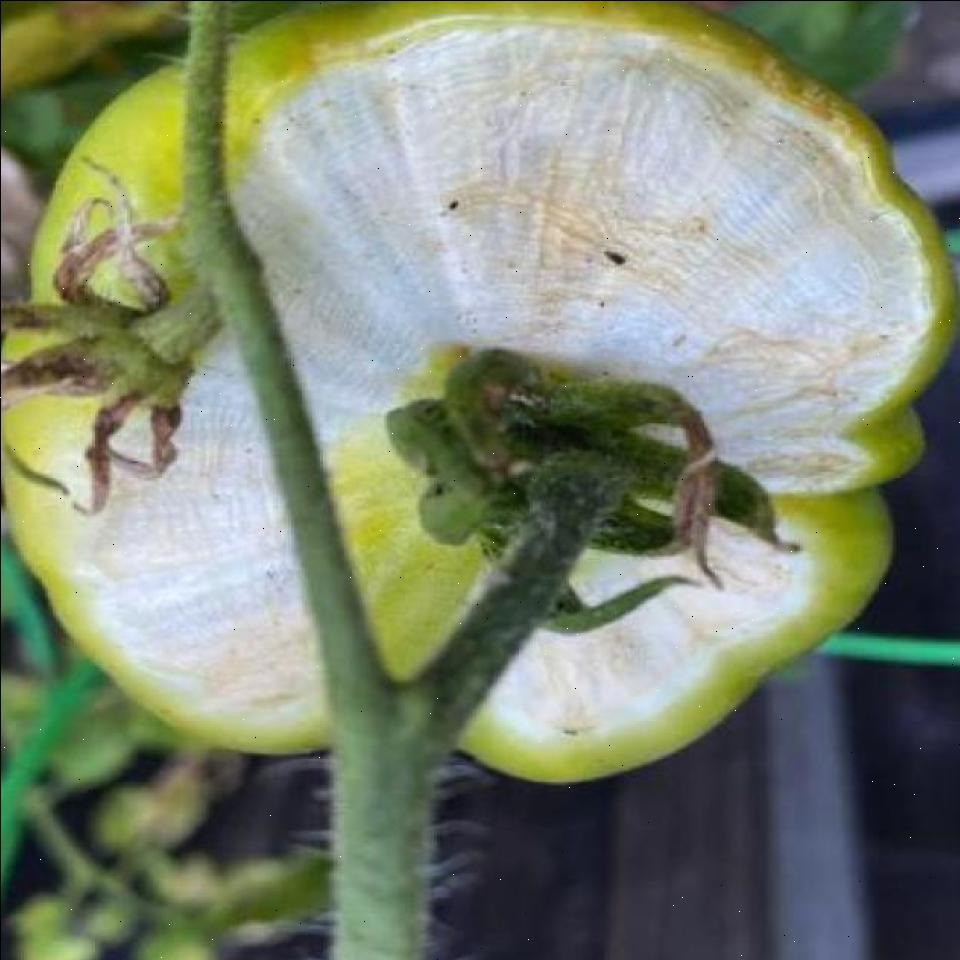Sunscald: (61, 12, 930, 754)
